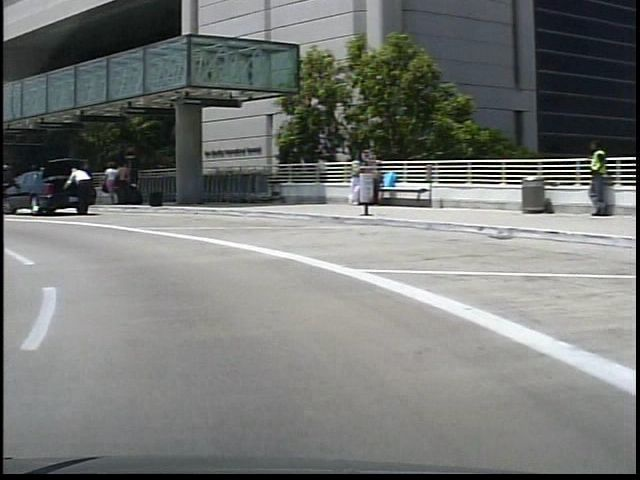person: (573, 137, 602, 219), (58, 166, 91, 220), (111, 159, 127, 209), (98, 164, 110, 204)
